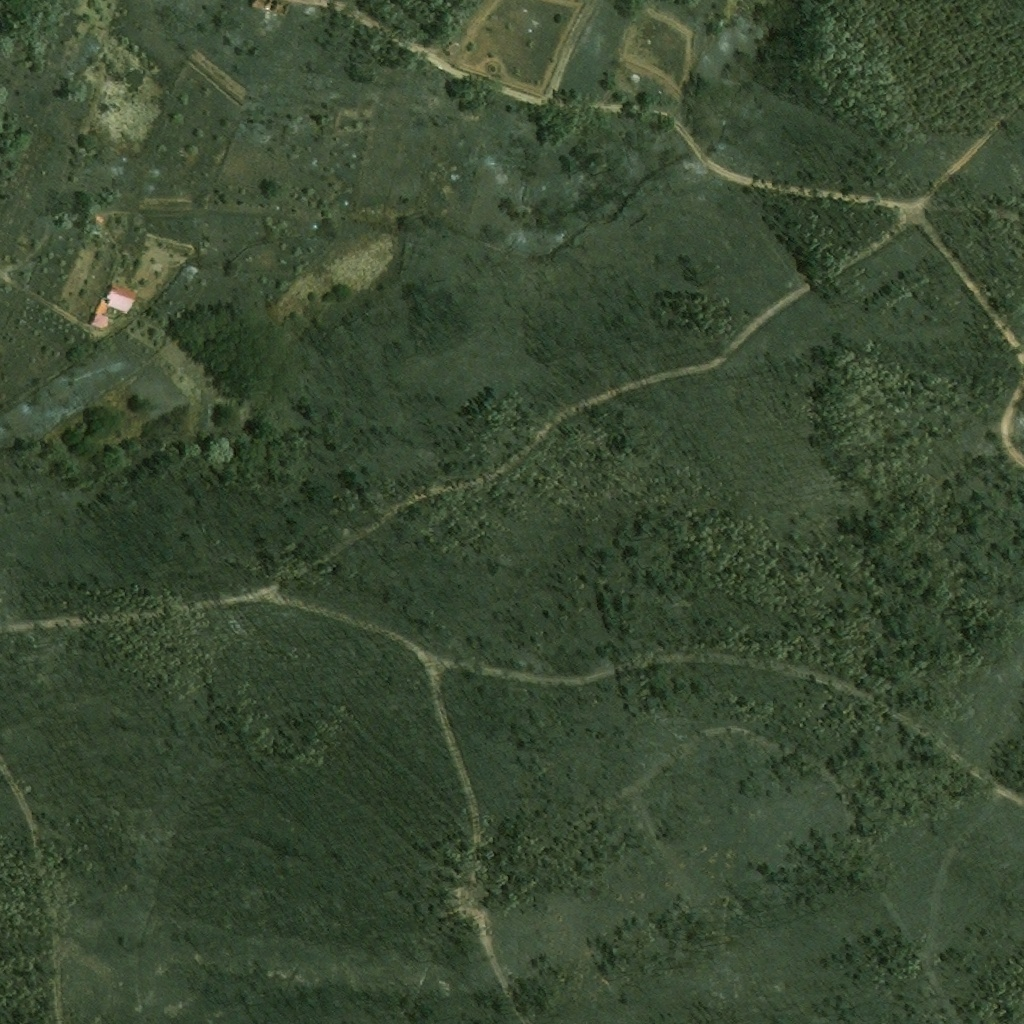0 no-damage: (96, 283, 135, 313), (88, 312, 109, 330)
4 un-classified: (249, 0, 284, 15)
